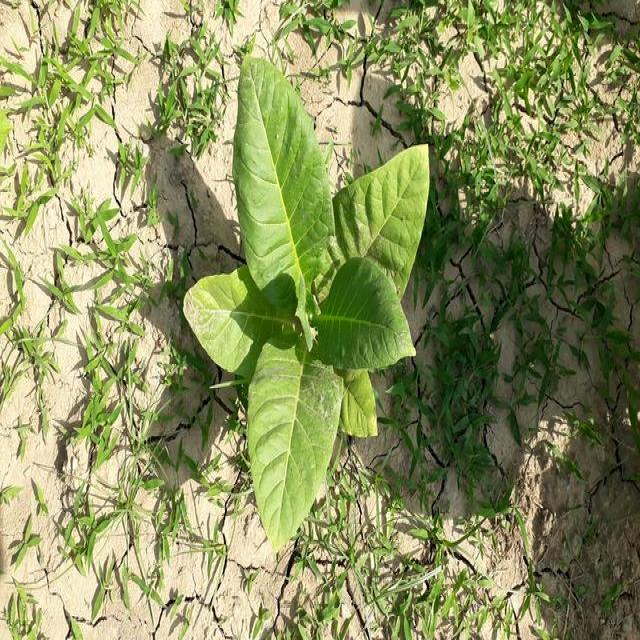crop: (186, 51, 434, 535)
